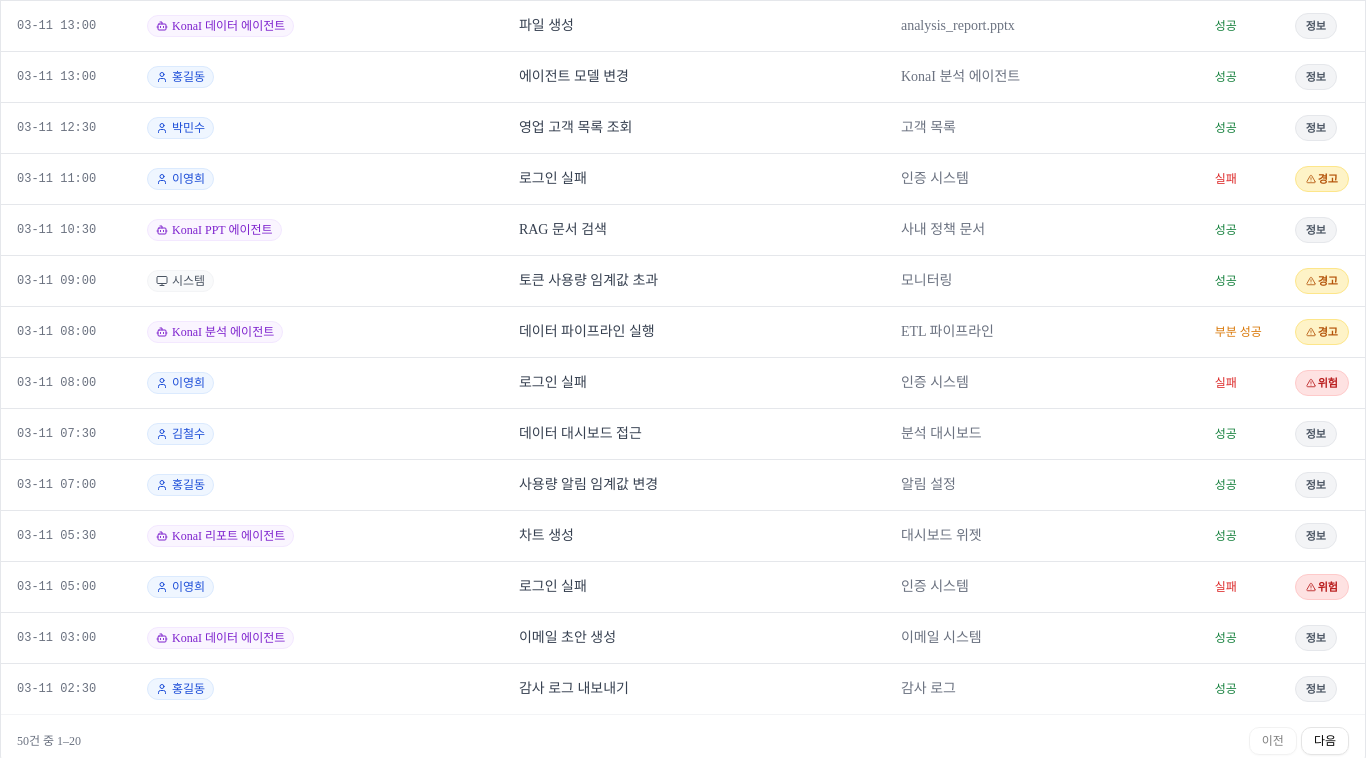
Test: 3.5-4. Critical User Flow Traces › Flow 2: Paginate -> Filter -> Verify Reset › resets to page 1 when search is performed on page 2
(page scrolled)
expect the text "50건 중 1–20" is shown: met, box [17,733,81,749]
Click "다음" to go to page 2
Click the button "다음". click: [1325, 741]
box: [1301,727,1349,755]
(page scrolled)
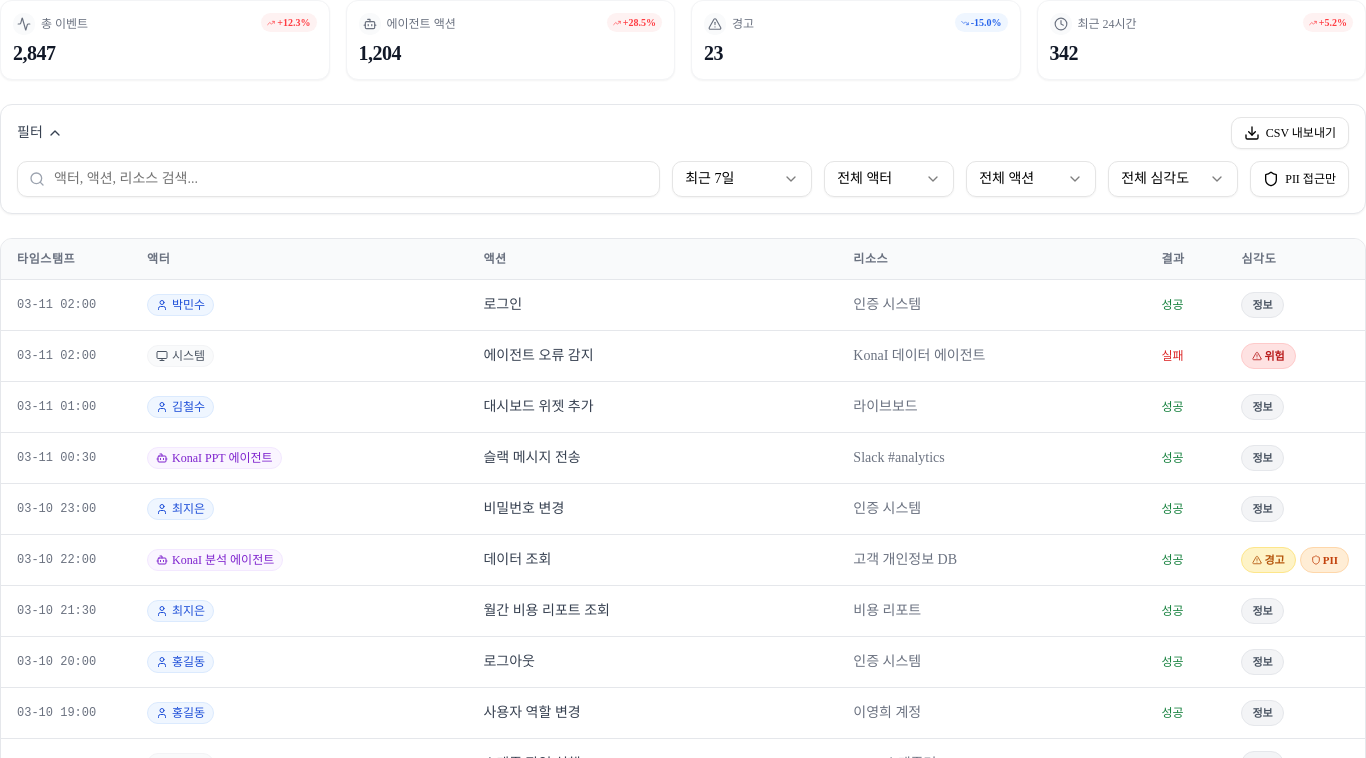
Now perform a search
Type "홍길동" into the field with placeholder "액터, 액션, 리소스 검색...". click: [339, 179]
box: [17,161,660,197]
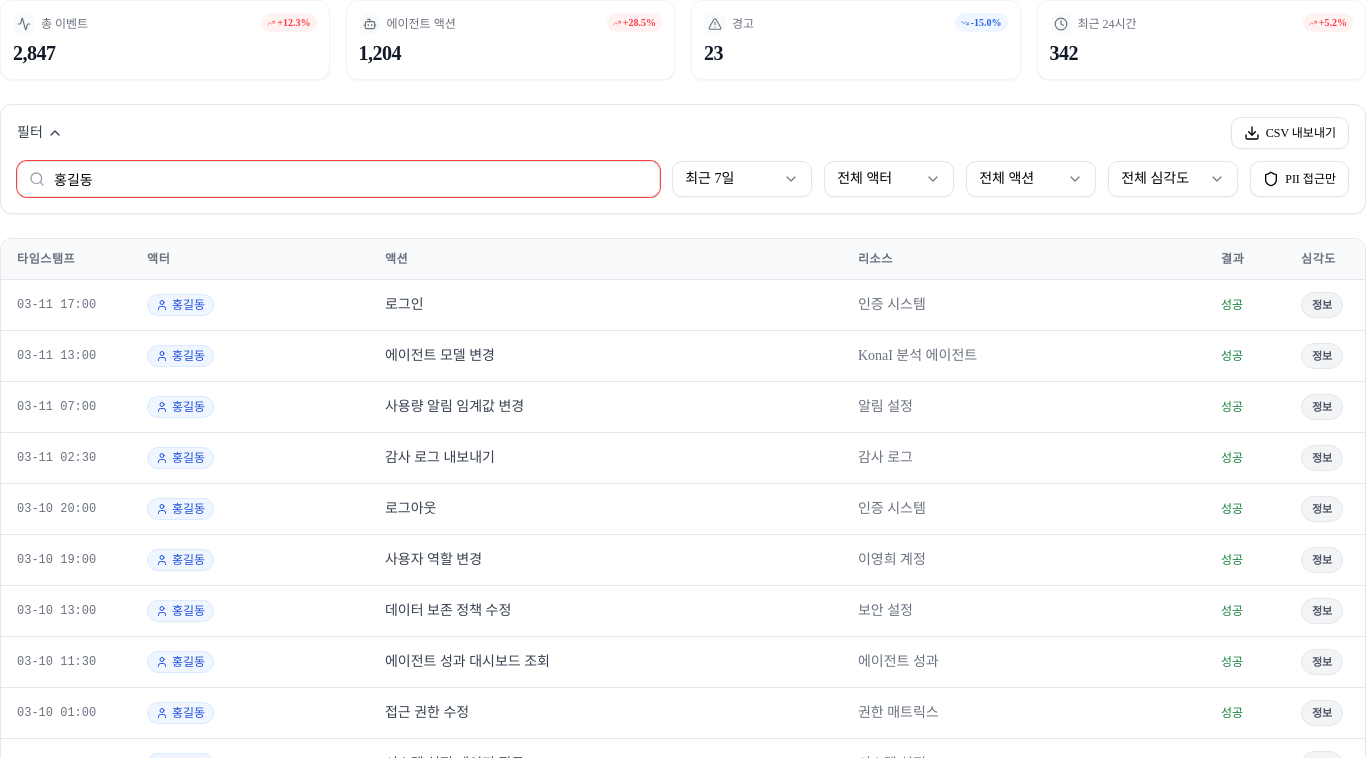
expect the button with aria-label "—" is shown: met, box [1,280,1365,330]
